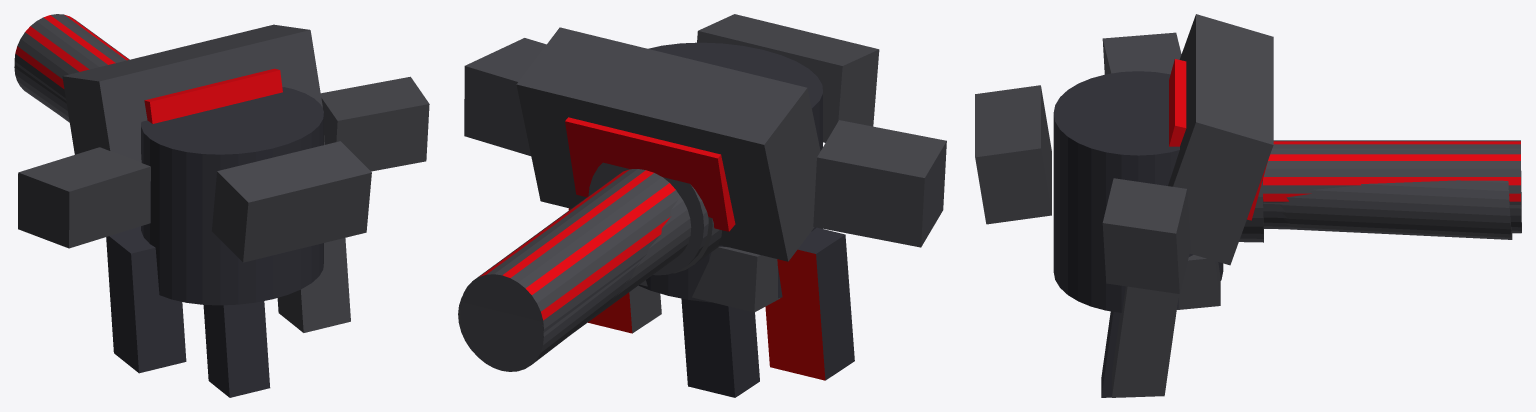
File: FlyingTurret.fbx
3 views of the same model, side by side, from view 1: azimuth 30°, elevation 25°; view 2: azimuth 150°, elevation 25°; view 3: azimuth 270°, elevation 25° (orthographic). The views are drawn at different scales.
Parts seen in each view (by area): view 1: Ribcage, ChestPlate_Main, Back_Mount, Shoulder_L, Thigh_0, Shoulder_R, Cannon_L_Barrel, Thigh_1, Shin_0, Chest, Shin_1, BackCannon_Barrel; view 2: ChestPlate_Main, Cannon_L_Barrel, Shoulder_L, Thigh_0, Back_Mount, Chest, Shin_0, BackCannon_Barrel, Shoulder_R, Ribcage, Pelvis, Cannon_R_Barrel (+4 smaller); view 3: Ribcage, ChestPlate_Main, Cannon_L_Barrel, Cannon_R_Barrel, Back_Mount, Shoulder_R, Thigh_1, Shoulder_L, Pelvis, Chest, BackCannon_Barrel, Shin_1 (+1 smaller).
Part boxes in pixels (bbox=[...]): Ribcage: bbox=[141, 87, 323, 305]; ChestPlate_Main: bbox=[62, 24, 324, 162]; Back_Mount: bbox=[212, 141, 371, 262]; Shoulder_L: bbox=[18, 147, 150, 248]; Thigh_0: bbox=[106, 226, 186, 373]; Shoulder_R: bbox=[320, 76, 429, 171]; Cannon_L_Barrel: bbox=[14, 14, 129, 100]; Thigh_1: bbox=[277, 238, 350, 332]; Shin_0: bbox=[203, 301, 266, 397]; Chest: bbox=[144, 68, 282, 123]; Shin_1: bbox=[224, 302, 270, 397]; BackCannon_Barrel: bbox=[14, 64, 69, 121]; ChestPlate_Main: bbox=[516, 27, 820, 261]; Cannon_L_Barrel: bbox=[460, 169, 678, 332]; Shoulder_L: bbox=[813, 120, 946, 247]; Thigh_0: bbox=[765, 227, 854, 380]; Back_Mount: bbox=[697, 14, 879, 142]; Chest: bbox=[565, 117, 735, 231]; Shin_0: bbox=[681, 298, 759, 397]; BackCannon_Barrel: bbox=[460, 260, 640, 371]; Shoulder_R: bbox=[464, 38, 546, 155]; Ribcage: bbox=[638, 42, 822, 302]; Pelvis: bbox=[640, 246, 780, 312]; Cannon_R_Barrel: bbox=[458, 193, 691, 355]; Ribcage: bbox=[1053, 71, 1223, 312]; ChestPlate_Main: bbox=[1168, 14, 1273, 265]; Cannon_L_Barrel: bbox=[1263, 140, 1520, 204]; Cannon_R_Barrel: bbox=[1280, 180, 1512, 239]; Back_Mount: bbox=[975, 85, 1051, 224]; Shoulder_R: bbox=[1102, 178, 1190, 293]; Thigh_1: bbox=[1112, 286, 1178, 397]; Shoulder_L: bbox=[1102, 32, 1181, 74]; Pelvis: bbox=[1177, 255, 1220, 309]; Chest: bbox=[1169, 59, 1267, 220]; BackCannon_Barrel: bbox=[1263, 171, 1521, 233]; Shin_1: bbox=[1101, 311, 1120, 397].
Size of the model in its own units: 286 by 212 by 329.
